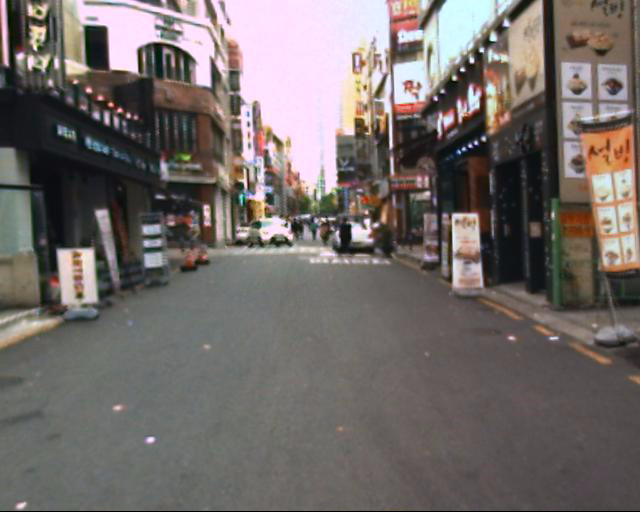person: (334, 211, 359, 260), (318, 207, 342, 258), (304, 207, 326, 252)
